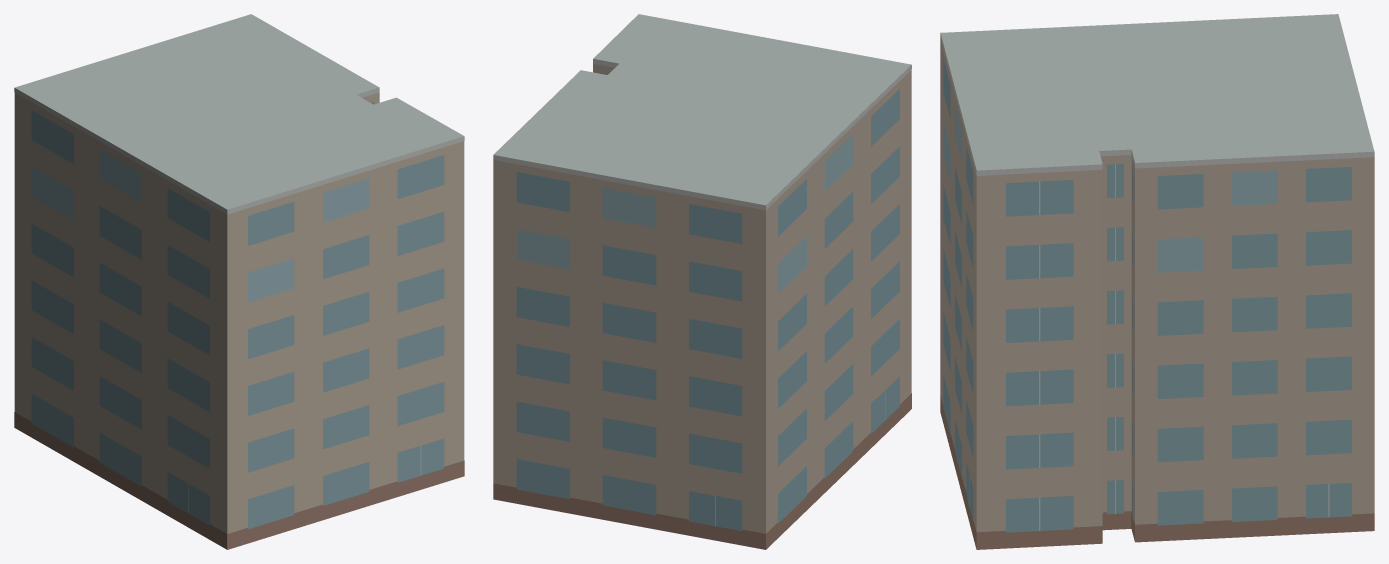
The model's file is survey-upis-32889363.glb.
3 views of the same model, side by side, from view 1: azimuth 30°, elevation 25°; view 2: azimuth 150°, elevation 25°; view 3: azimuth 270°, elevation 25° (orthographic). The views are drawn at different scales.
Visible parts, largest first — view 1: survey-upis-32889363.tmp; view 2: survey-upis-32889363.tmp; view 3: survey-upis-32889363.tmp.
Boxes of the visible parts, x1,y1,x2,y2 form: survey-upis-32889363.tmp: (14,14,464,549); survey-upis-32889363.tmp: (493,14,911,549); survey-upis-32889363.tmp: (940,14,1374,549).
Size of the model in its own units: 15.15 by 17.1 by 17.75.
